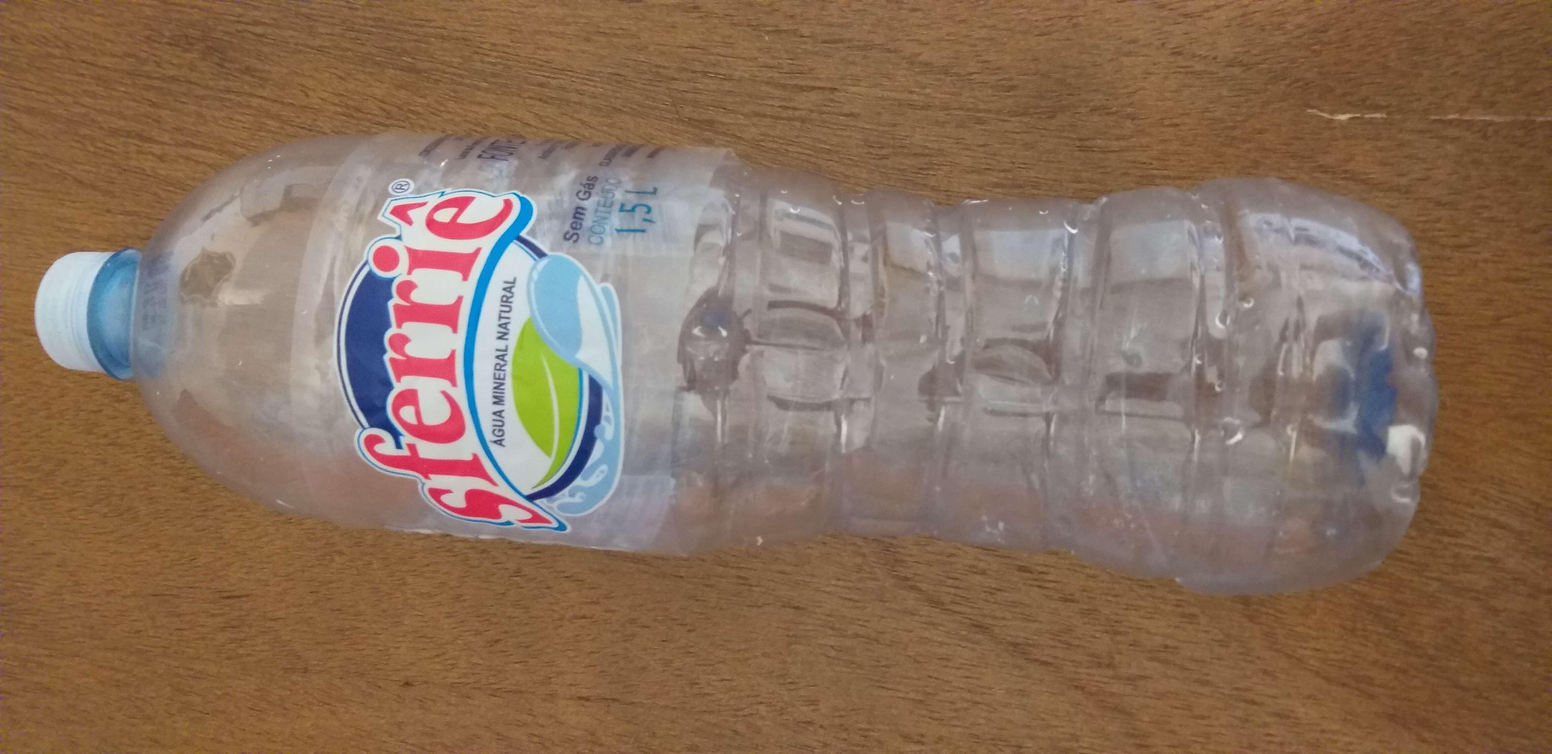bottle-plastic: (33, 119, 1432, 601)
